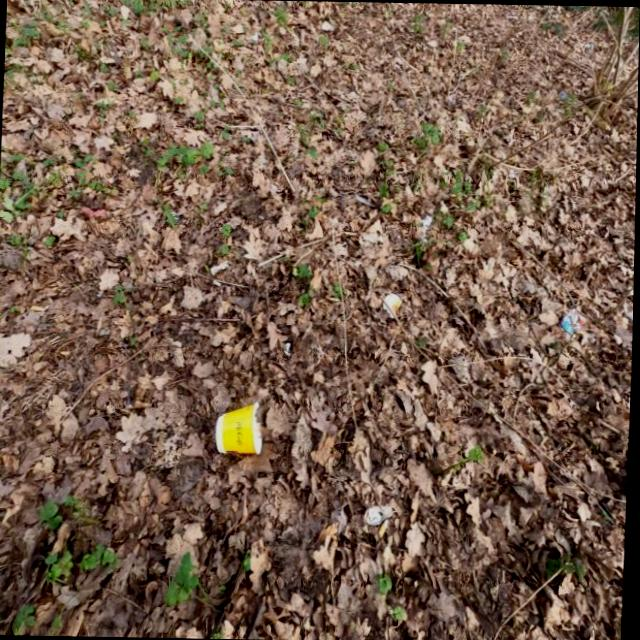Cup: (209, 392, 278, 462)
